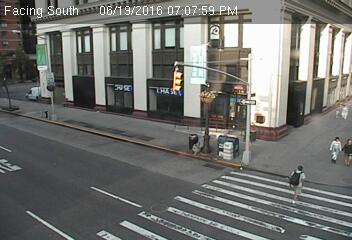neg: (139, 68, 174, 114), (182, 134, 203, 161), (196, 105, 216, 132), (39, 97, 59, 123), (239, 90, 257, 114), (251, 108, 268, 131), (218, 138, 235, 161), (22, 55, 35, 72), (16, 24, 25, 36)
pos: (284, 164, 314, 203), (323, 131, 350, 167), (337, 137, 351, 169), (329, 97, 346, 120), (337, 98, 351, 122)
